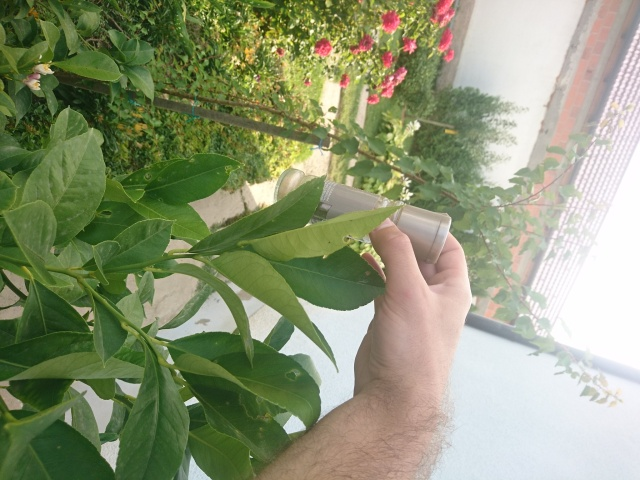Kotanyi Garlic Granules 70g: (270, 162, 455, 267)
